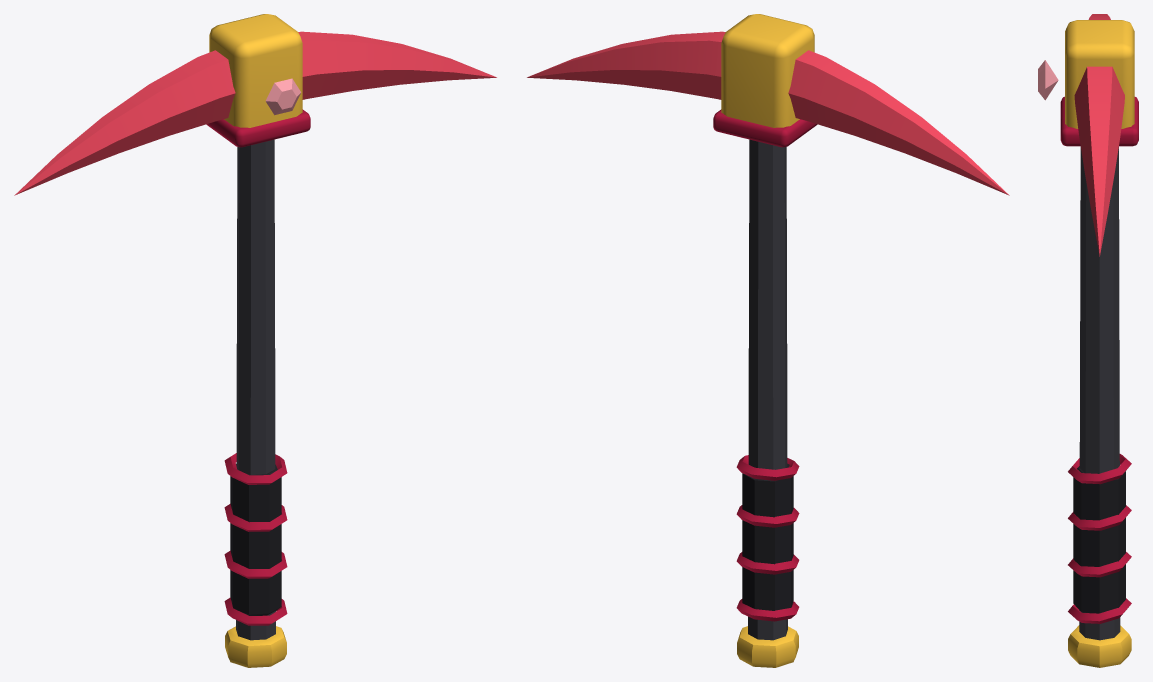
Rendered from RubyPickaxe.fbx.
The picture shows the model from 3 angles, left to right: view 1: azimuth 30°, elevation 25°; view 2: azimuth 150°, elevation 25°; view 3: azimuth 270°, elevation 25°; orthographic projection.
Parts seen in each view (by area): view 1: RubyPickaxe; view 2: RubyPickaxe; view 3: RubyPickaxe.
Boxes of the visible parts, x1,y1,x2,y2 form: RubyPickaxe: (14, 14, 496, 667); RubyPickaxe: (527, 14, 1009, 667); RubyPickaxe: (1038, 14, 1138, 667).
Bounding box in the file's own units: 2.7 × 3.36 × 0.49.
1 material, 1 textured.
